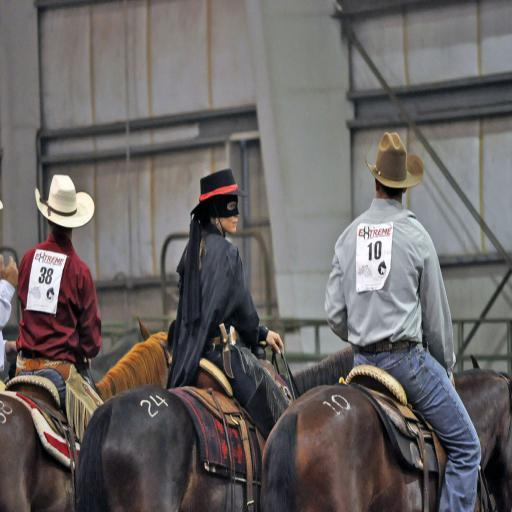horse: (72, 344, 354, 512), (260, 356, 512, 512), (0, 312, 171, 512)
